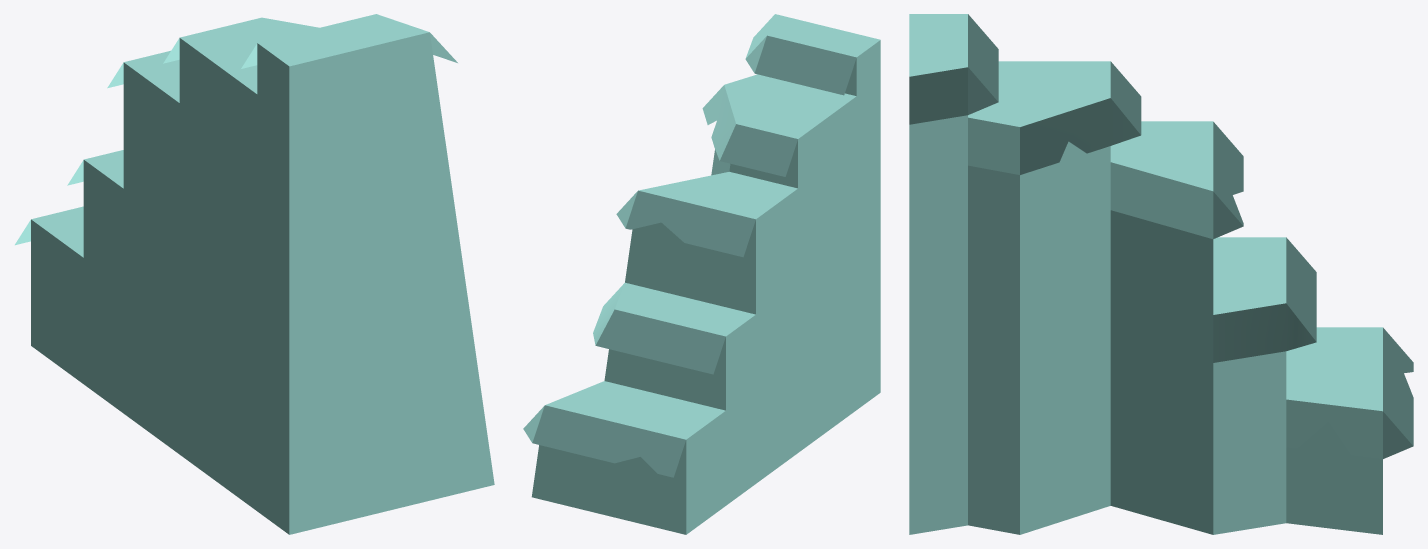
File: cliffBrown_stepsEnd.glb
The picture shows the model from 3 angles, left to right: view 1: azimuth 30°, elevation 25°; view 2: azimuth 150°, elevation 25°; view 3: azimuth 270°, elevation 25°; orthographic projection. The views are drawn at different scales.
Parts seen in each view (by area): view 1: cliffBrown_stepsEnd; view 2: cliffBrown_stepsEnd; view 3: cliffBrown_stepsEnd.
Part boxes in pixels (<box>): cliffBrown_stepsEnd: <box>15,14,494,534</box>; cliffBrown_stepsEnd: <box>523,14,880,534</box>; cliffBrown_stepsEnd: <box>909,14,1413,534</box>.
Size of the model in its own units: 4.84 by 10 by 10.64.
